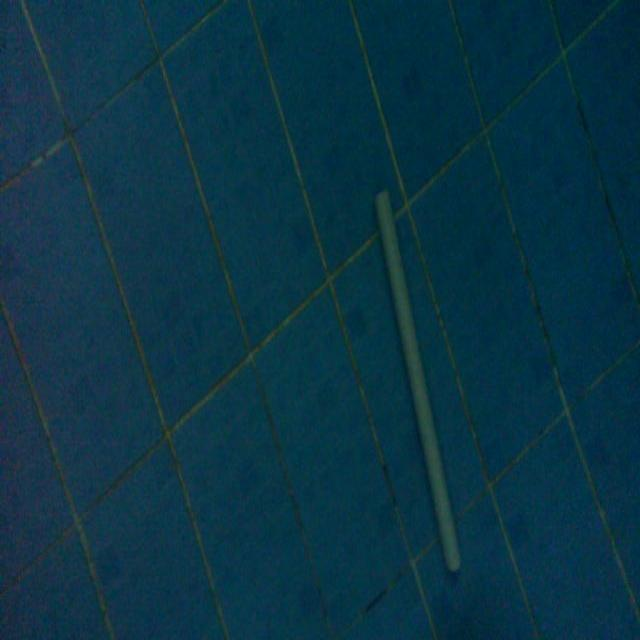Cube: (372, 183, 464, 574)
